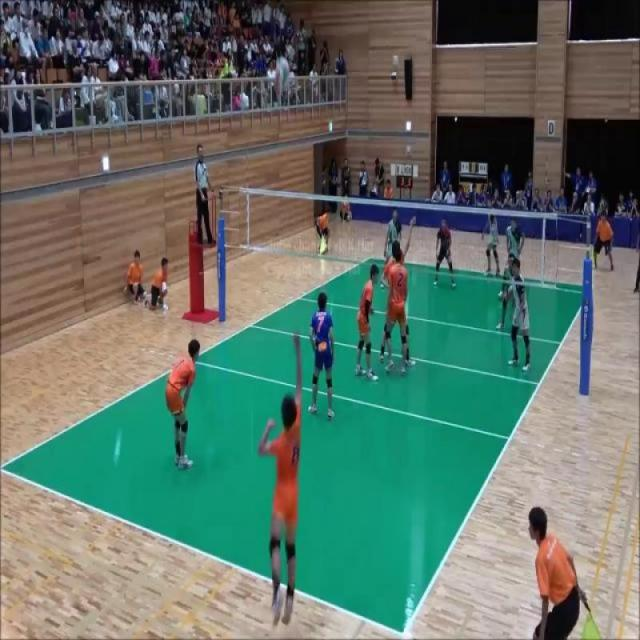volleyball: (274, 56, 290, 88)
